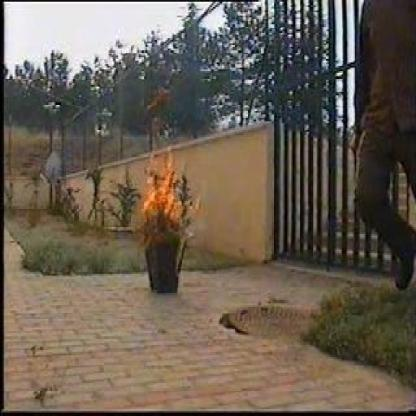-: (192, 74, 209, 136)
foggia-v2-map80-epoch100 - v1 4323: (143, 110, 175, 226)
